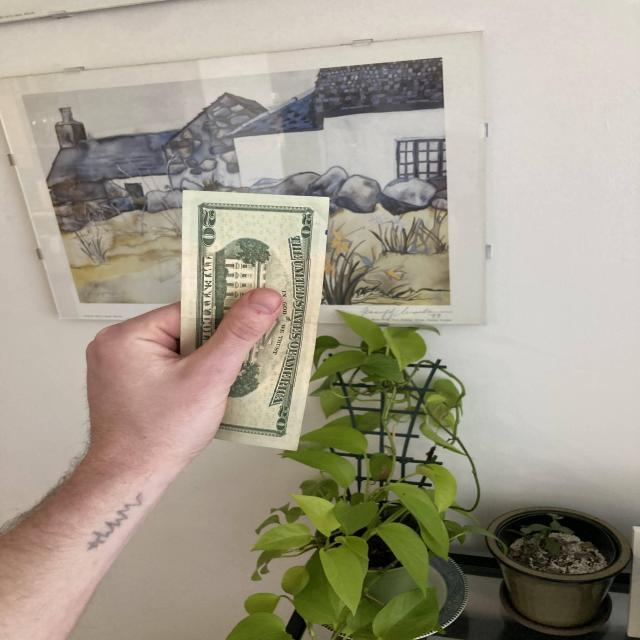twenty: (178, 189, 330, 452)
